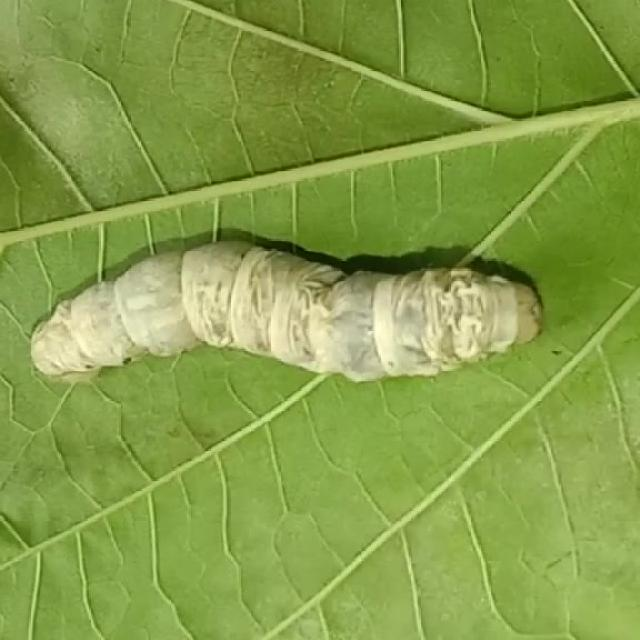Grasserie: (17, 211, 568, 437)
